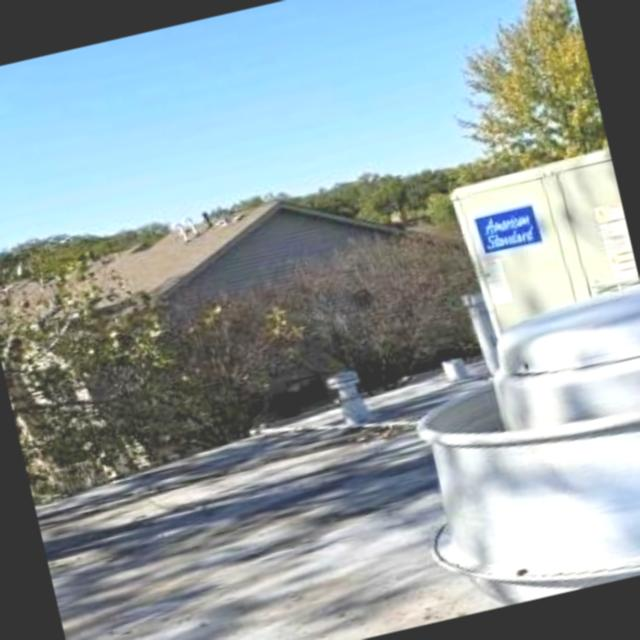GRAVITY-VENT: (395, 285, 640, 616), (320, 354, 376, 434)
RTU: (426, 140, 640, 488)
